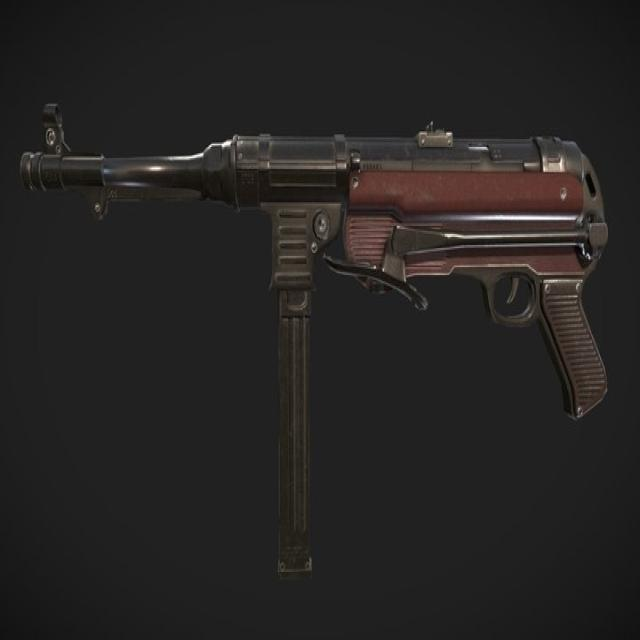SMG: (20, 103, 610, 585)
